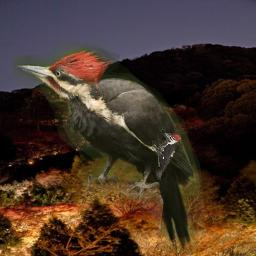Woodpecker: (13, 42, 209, 254), (152, 133, 181, 180)
